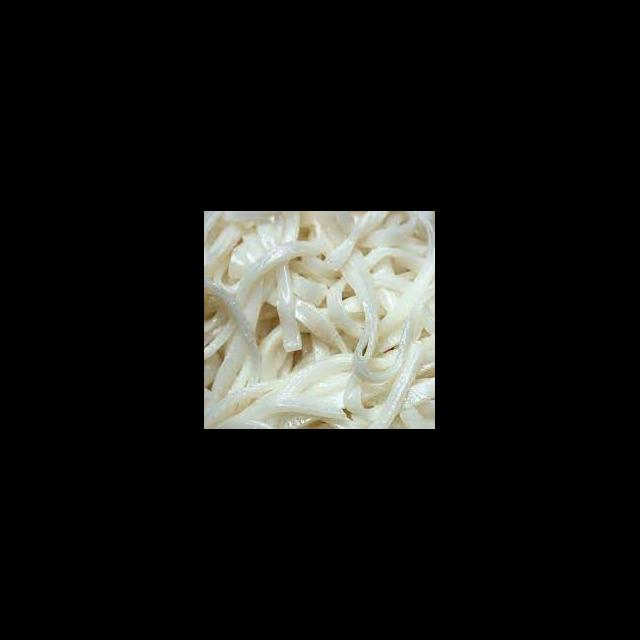noodles: (223, 232, 420, 411)
